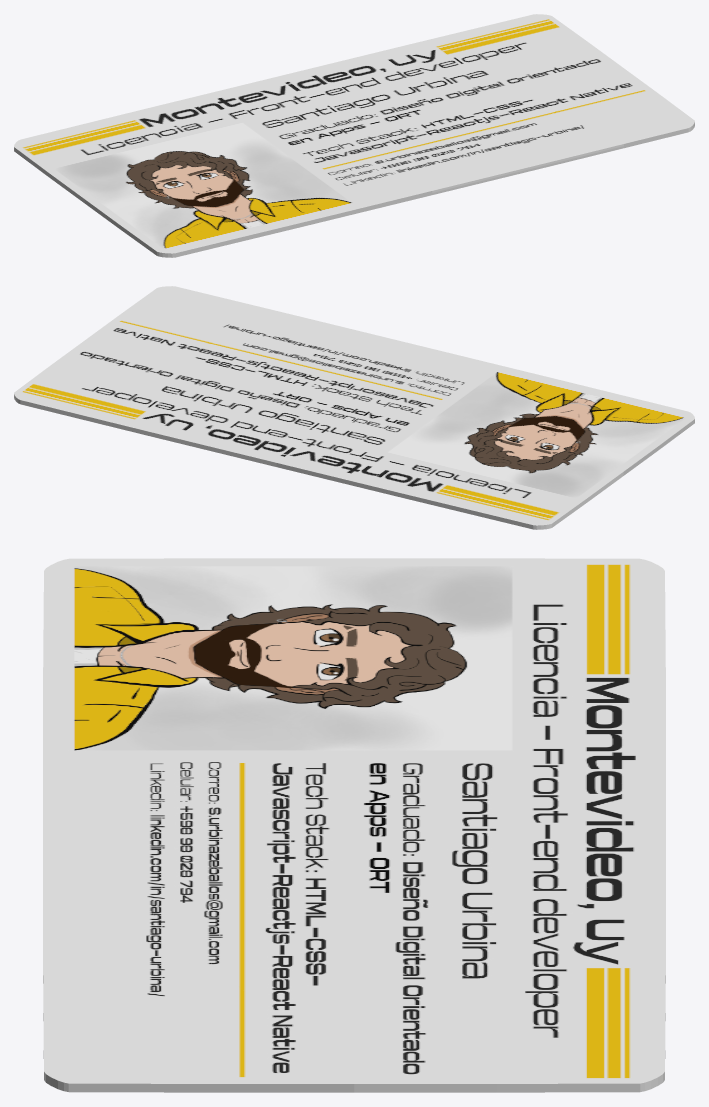
The model's file is driverlicence.glb.
3 renders of one model, top to bottom at view 1: azimuth 30°, elevation 25°; view 2: azimuth 150°, elevation 25°; view 3: azimuth 270°, elevation 25°, orthographic. The views are drawn at different scales.
Parts seen in each view (by area): view 1: Plano; view 2: Plano; view 3: Plano.
Boxes of the visible parts, x1,y1,x2,y2 form: Plano: [14, 14, 694, 257]; Plano: [14, 286, 694, 529]; Plano: [43, 558, 665, 1092].
Bounding box in the file's own units: 7.28 × 0.0557 × 3.65.
Materials: 2 (1 with a texture image).
